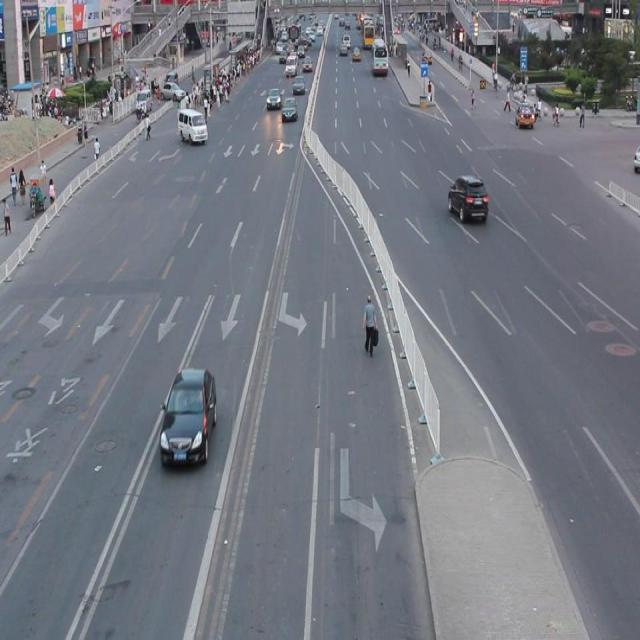car: (159, 366, 217, 468), (446, 172, 487, 225)
